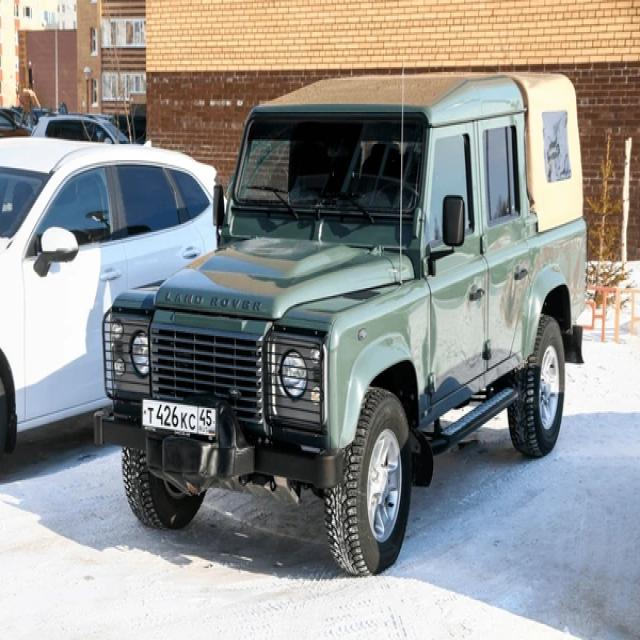landrover: (164, 286, 266, 316)
